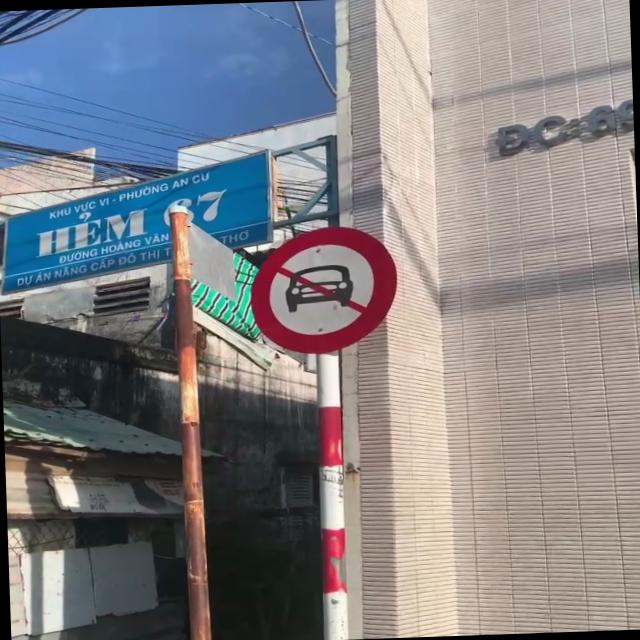Cam_O_To: (245, 223, 400, 353)
